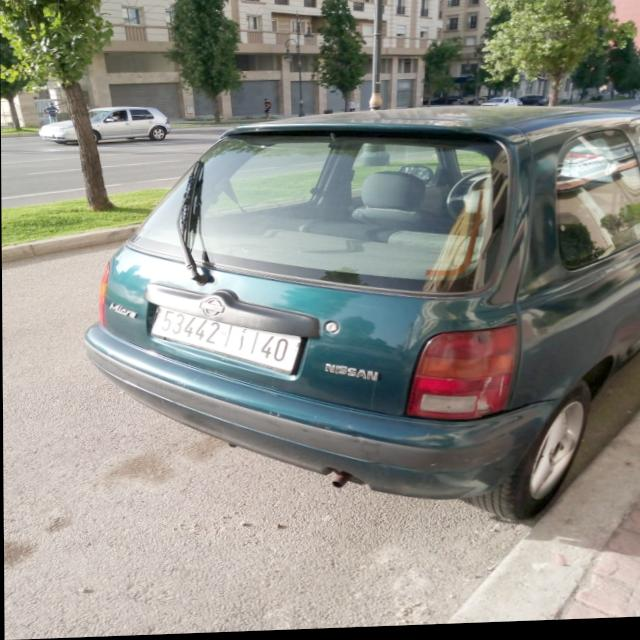License-Plate: (150, 309, 300, 375)
